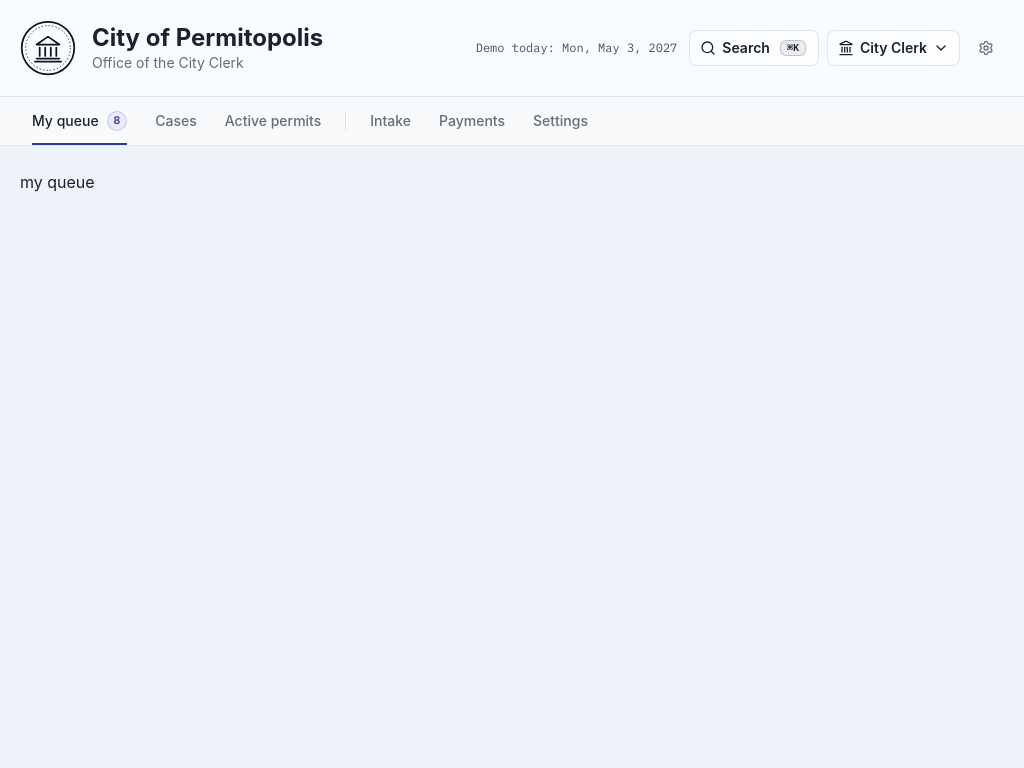
Test case: command palette › lists Go to, Switch role and Demo for a city role, with no Personas group
The width and height of the screenshot is (1024, 768).
Click the button "Search ⌘K" at (754, 48), box [689,30,819,66]
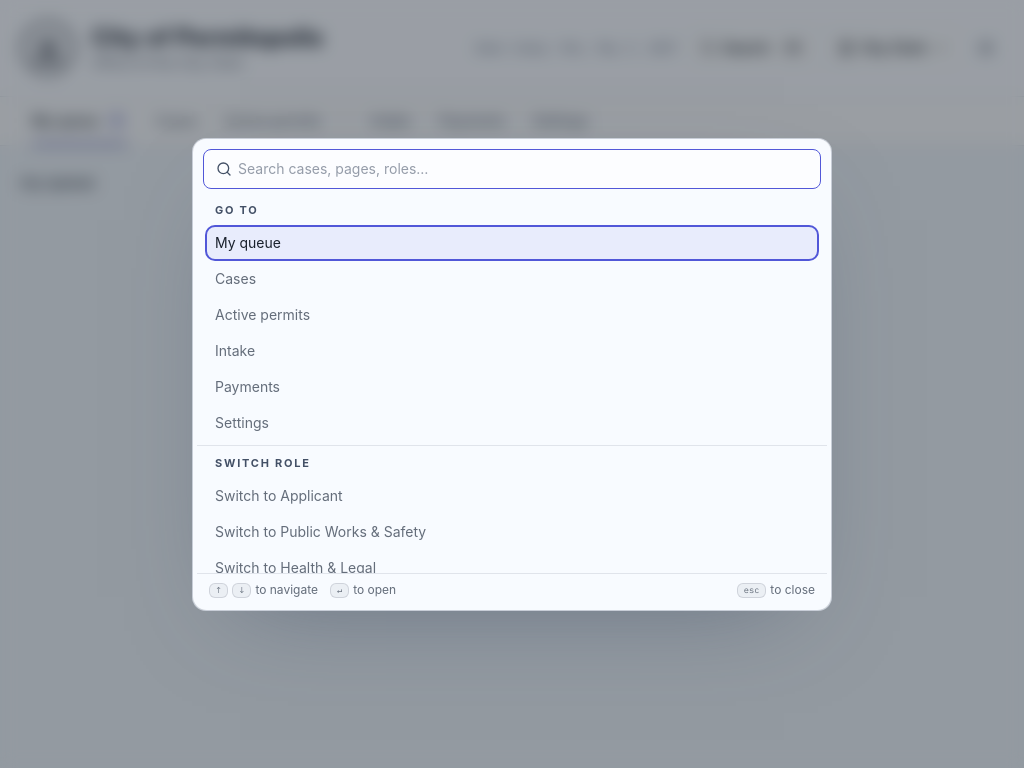
Expected: the text "Go to" is shown, [215,203,259,217]
Expected: the text "Switch role" is shown, [215,456,311,470]
Expected: the option "Intake" is shown, [215,342,255,359]
